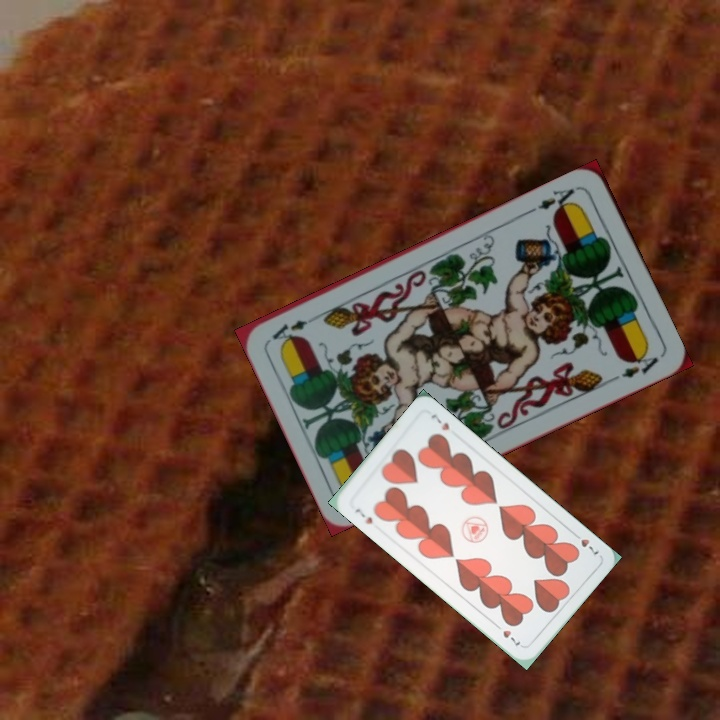EA: (526, 183, 581, 217)
H7: (568, 528, 602, 557), (350, 504, 375, 527)
